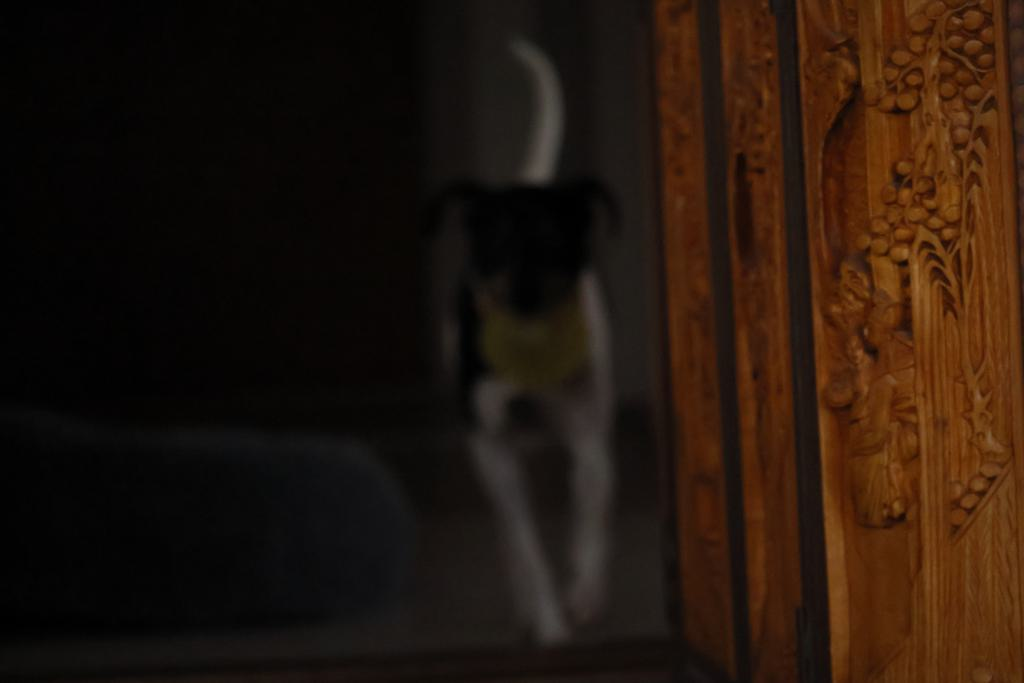Dog: (405, 26, 648, 653)
